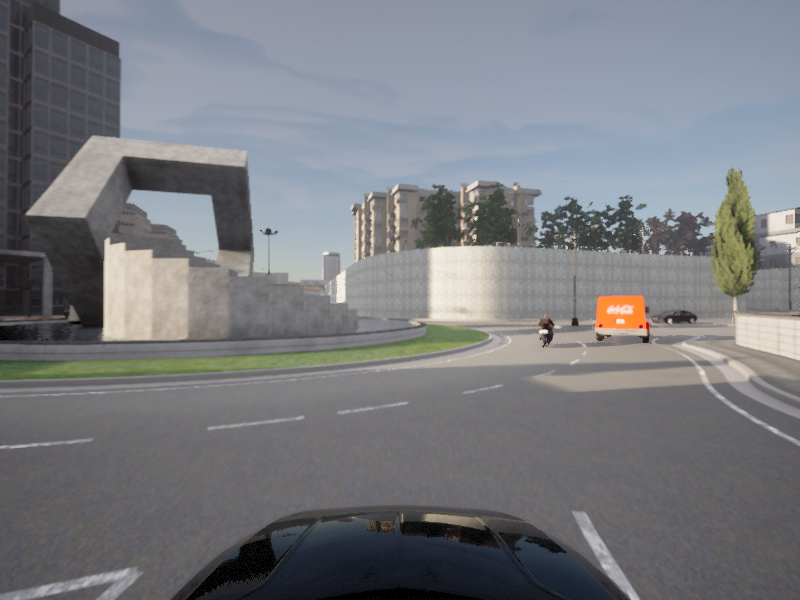vehicle: (591, 294, 651, 344), (533, 314, 557, 349)
